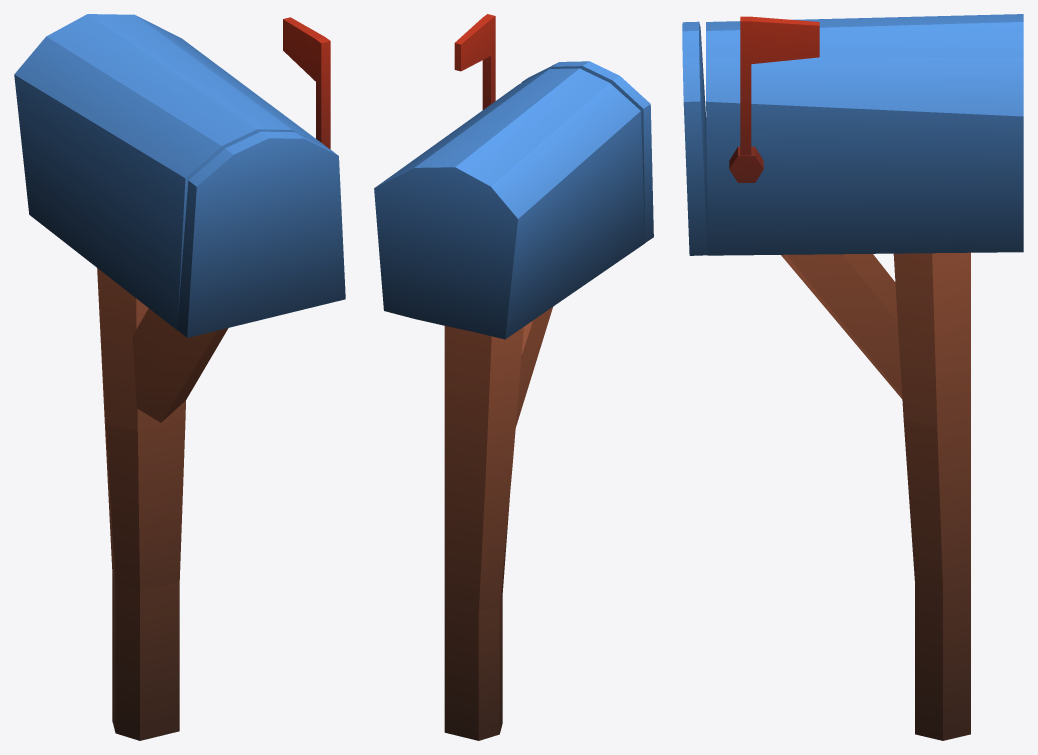
3 views of the same model, side by side, from view 1: azimuth 30°, elevation 25°; view 2: azimuth 150°, elevation 25°; view 3: azimuth 270°, elevation 25° (orthographic). The views are drawn at different scales.
Visible parts, largest first — view 1: 1.001; view 2: 1.001; view 3: 1.001.
Part boxes in pixels (x1=…): 1.001: x1=14, y1=14, x2=345, y2=740; 1.001: x1=374, y1=14, x2=653, y2=740; 1.001: x1=682, y1=14, x2=1023, y2=740.
Size of the model in its own units: 0.7957 by 3.16 by 1.31.
Materials: 1 (1 with a texture image).
